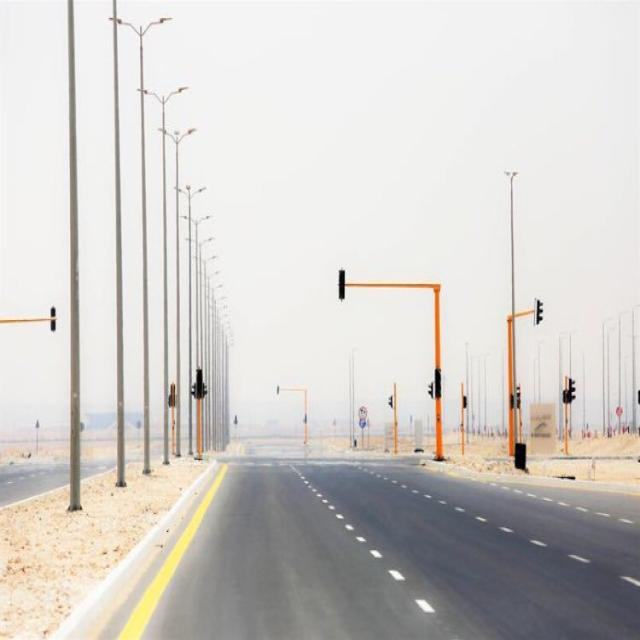Street Light: (109, 14, 172, 472), (136, 84, 188, 460), (157, 123, 195, 454), (175, 181, 206, 451), (182, 213, 211, 452)
